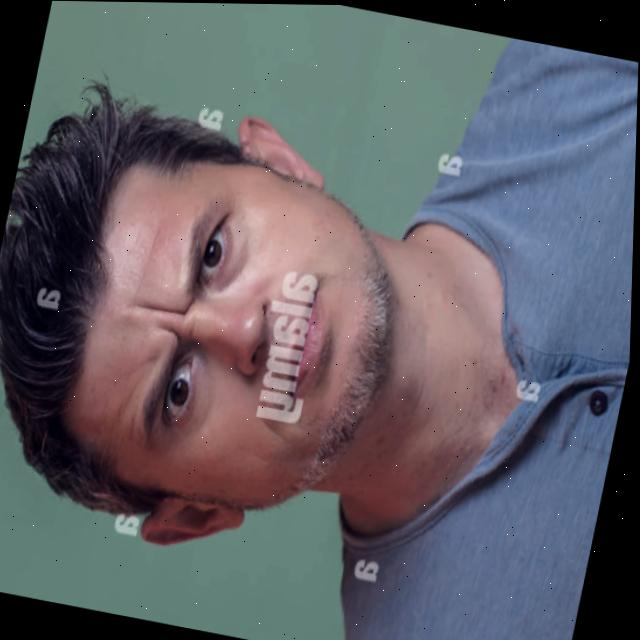angry: (137, 185, 344, 448)
